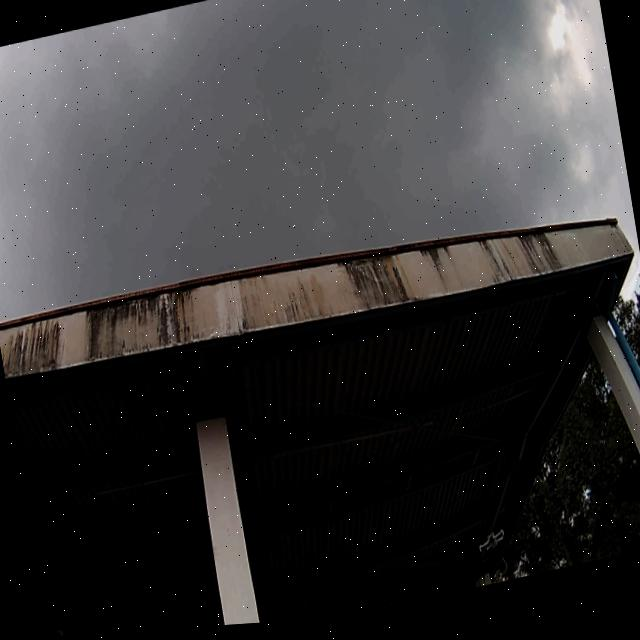drone: (470, 526, 512, 566)
